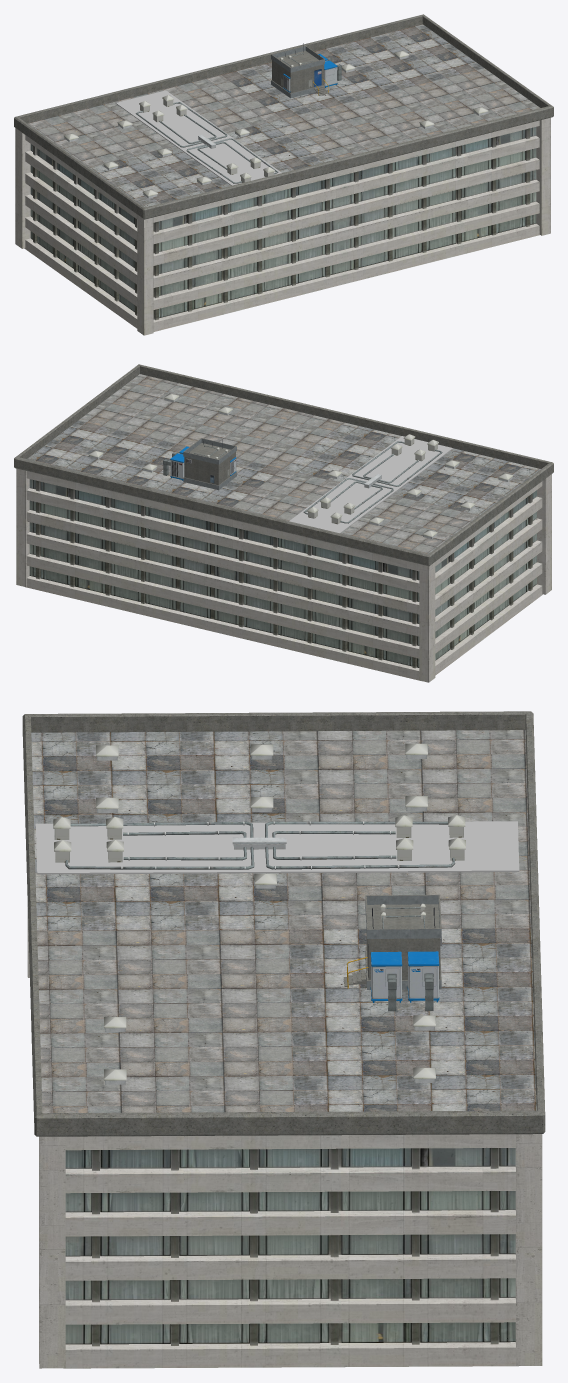
The model's file is u2NBuild5.gltf.
The picture shows the model from 3 angles, top to bottom: view 1: azimuth 30°, elevation 25°; view 2: azimuth 150°, elevation 25°; view 3: azimuth 270°, elevation 25°; orthographic projection. The views are drawn at different scales.
Parts seen in each view (by area): view 1: u2NBuild5; view 2: u2NBuild5; view 3: u2NBuild5.
Boxes of the visible parts, left/top/right/bottom form: u2NBuild5: left=14, top=14, right=553, bottom=335; u2NBuild5: left=14, top=364, right=553, bottom=682; u2NBuild5: left=22, top=711, right=545, bottom=1368.
Bounding box in the file's own units: 21.61 × 7.7 × 11.75.
